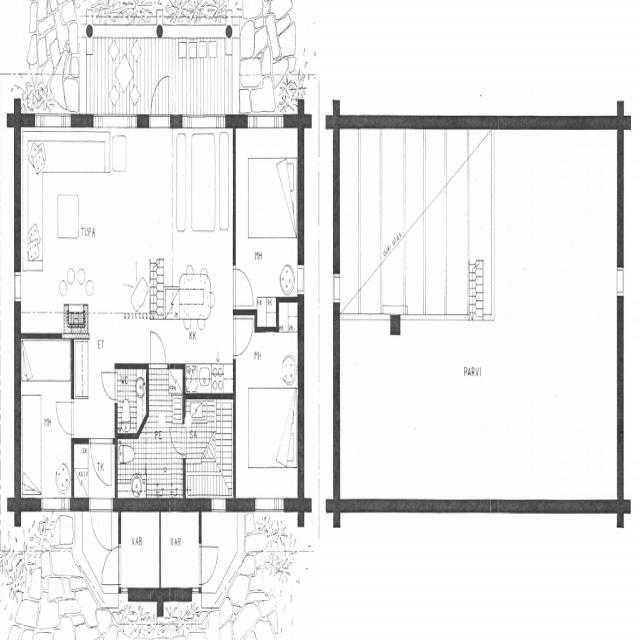door: (90, 498, 112, 554), (91, 438, 111, 487), (150, 77, 168, 127), (198, 546, 220, 584), (233, 268, 254, 306), (233, 318, 254, 355), (100, 547, 121, 584), (56, 401, 74, 434), (150, 331, 166, 368), (101, 372, 118, 399), (170, 427, 186, 453)
